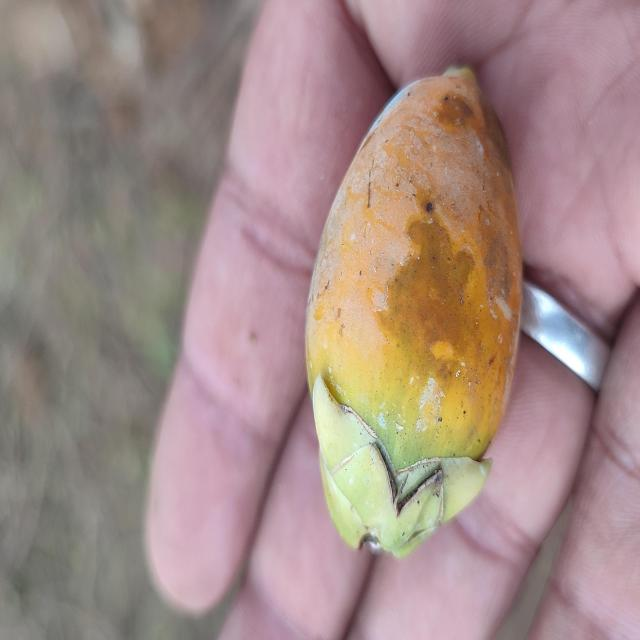good: (303, 68, 524, 561)
